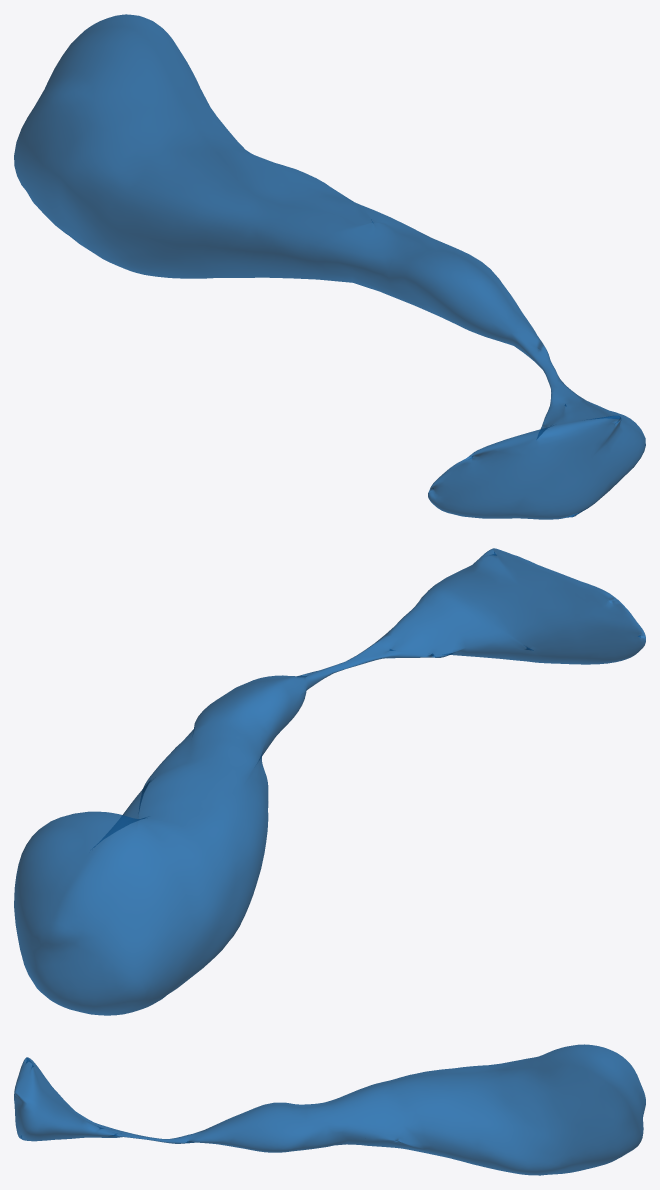
Rendered from spine-16-hr.obj.
3 views of the same model, one above another, from view 1: azimuth 30°, elevation 25°; view 2: azimuth 150°, elevation 25°; view 3: azimuth 270°, elevation 25° (orthographic). The views are drawn at different scales.
Parts seen in each view (by area): view 1: spine-16-hr_Cube.181; view 2: spine-16-hr_Cube.181; view 3: spine-16-hr_Cube.181.
Boxes of the visible parts, bbox=[...] form: spine-16-hr_Cube.181: bbox=[14, 14, 645, 519]; spine-16-hr_Cube.181: bbox=[14, 548, 645, 1015]; spine-16-hr_Cube.181: bbox=[14, 1044, 645, 1175].
Bounding box in the file's own units: 0.6218 × 0.4564 × 2.05.
